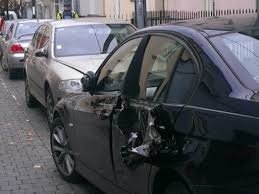Dent: (111, 101, 180, 165), (183, 115, 212, 163), (90, 95, 123, 117)
